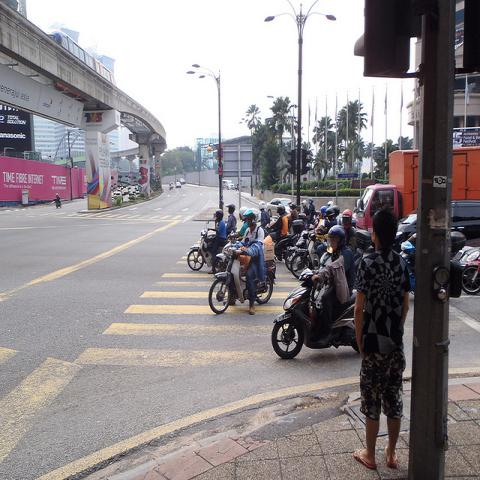car: (394, 199, 480, 241), (450, 245, 479, 267), (265, 196, 290, 219), (223, 180, 235, 190), (175, 181, 182, 189), (168, 182, 174, 190), (180, 178, 185, 185)
motorcycle: (269, 268, 359, 360), (208, 229, 278, 318), (284, 232, 328, 272), (291, 232, 326, 280), (264, 220, 305, 260), (187, 220, 214, 271), (213, 241, 244, 274), (459, 246, 479, 296), (398, 210, 418, 240)
truck: (356, 147, 480, 233)
